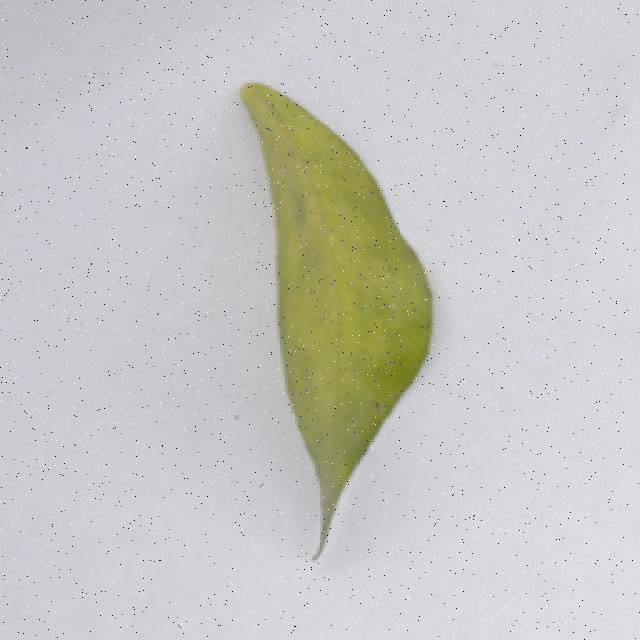greening: (222, 80, 443, 562)
